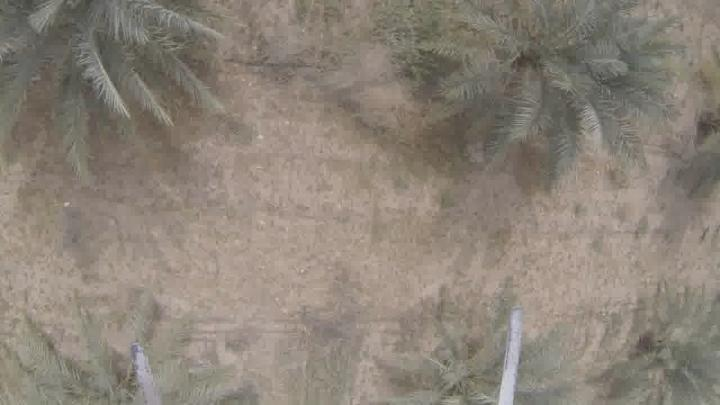Date-Palm-Crown: (446, 0, 644, 158), (0, 0, 198, 130), (3, 317, 222, 405), (408, 324, 550, 404), (620, 296, 720, 404), (692, 92, 720, 196)
